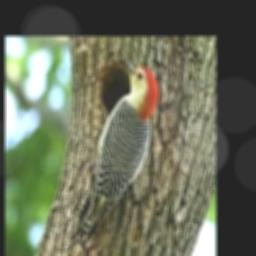Woodpecker: (69, 58, 159, 251)
